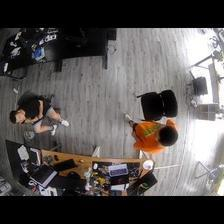normal: (9, 90, 70, 142), (123, 110, 182, 156)
